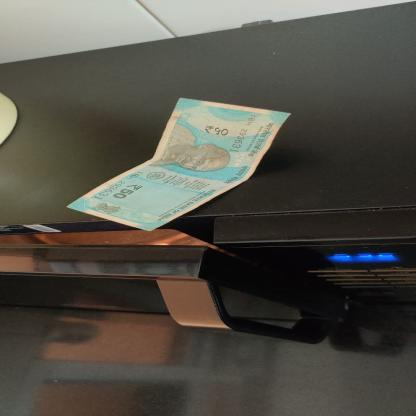New50Front: (62, 92, 296, 234)
